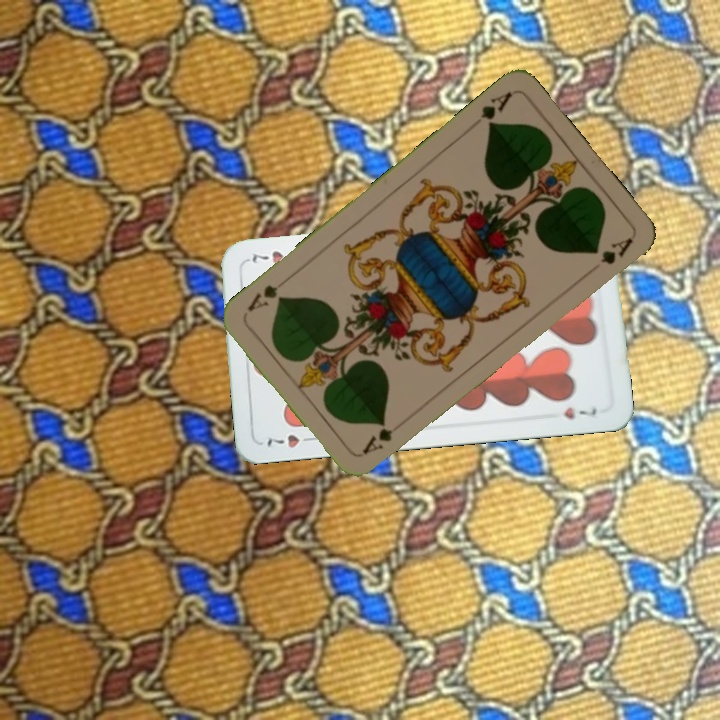GA: (476, 87, 515, 131), (358, 424, 396, 458)
H7: (261, 430, 319, 450)
